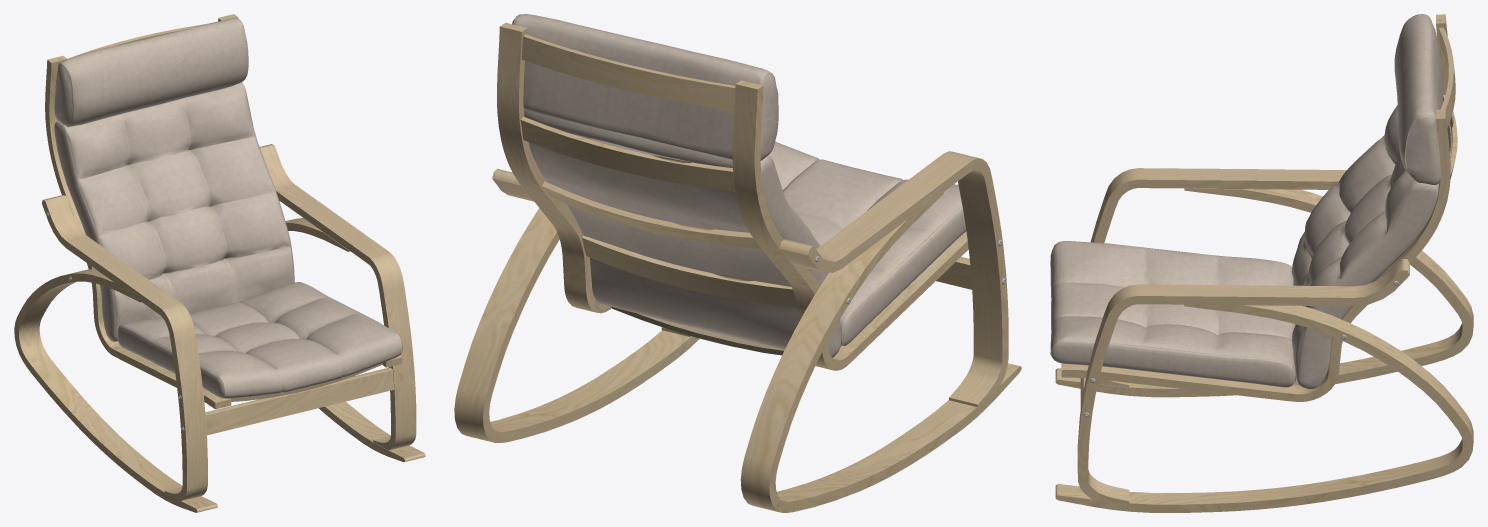
File: poang_krzeso_bujane_29502039.glb
The picture shows the model from 3 angles, left to right: view 1: azimuth 30°, elevation 25°; view 2: azimuth 150°, elevation 25°; view 3: azimuth 270°, elevation 25°; orthographic projection. The views are drawn at different scales.
Visible parts, largest first — view 1: poang_krzeso_bujane_29502039; view 2: poang_krzeso_bujane_29502039; view 3: poang_krzeso_bujane_29502039.
Part boxes in pixels (box(x1,y1,x2,y2)): poang_krzeso_bujane_29502039: box(14, 14, 425, 512); poang_krzeso_bujane_29502039: box(454, 14, 1021, 512); poang_krzeso_bujane_29502039: box(1050, 14, 1473, 512).
Bounding box in the file's own units: 0.6851 × 0.9651 × 0.9516.
Materials: 1 (1 with a texture image).
